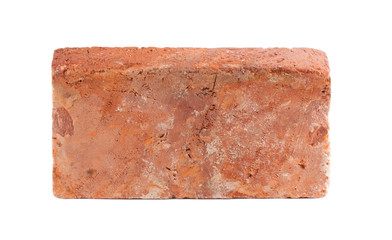brick: (53, 49, 327, 196)
